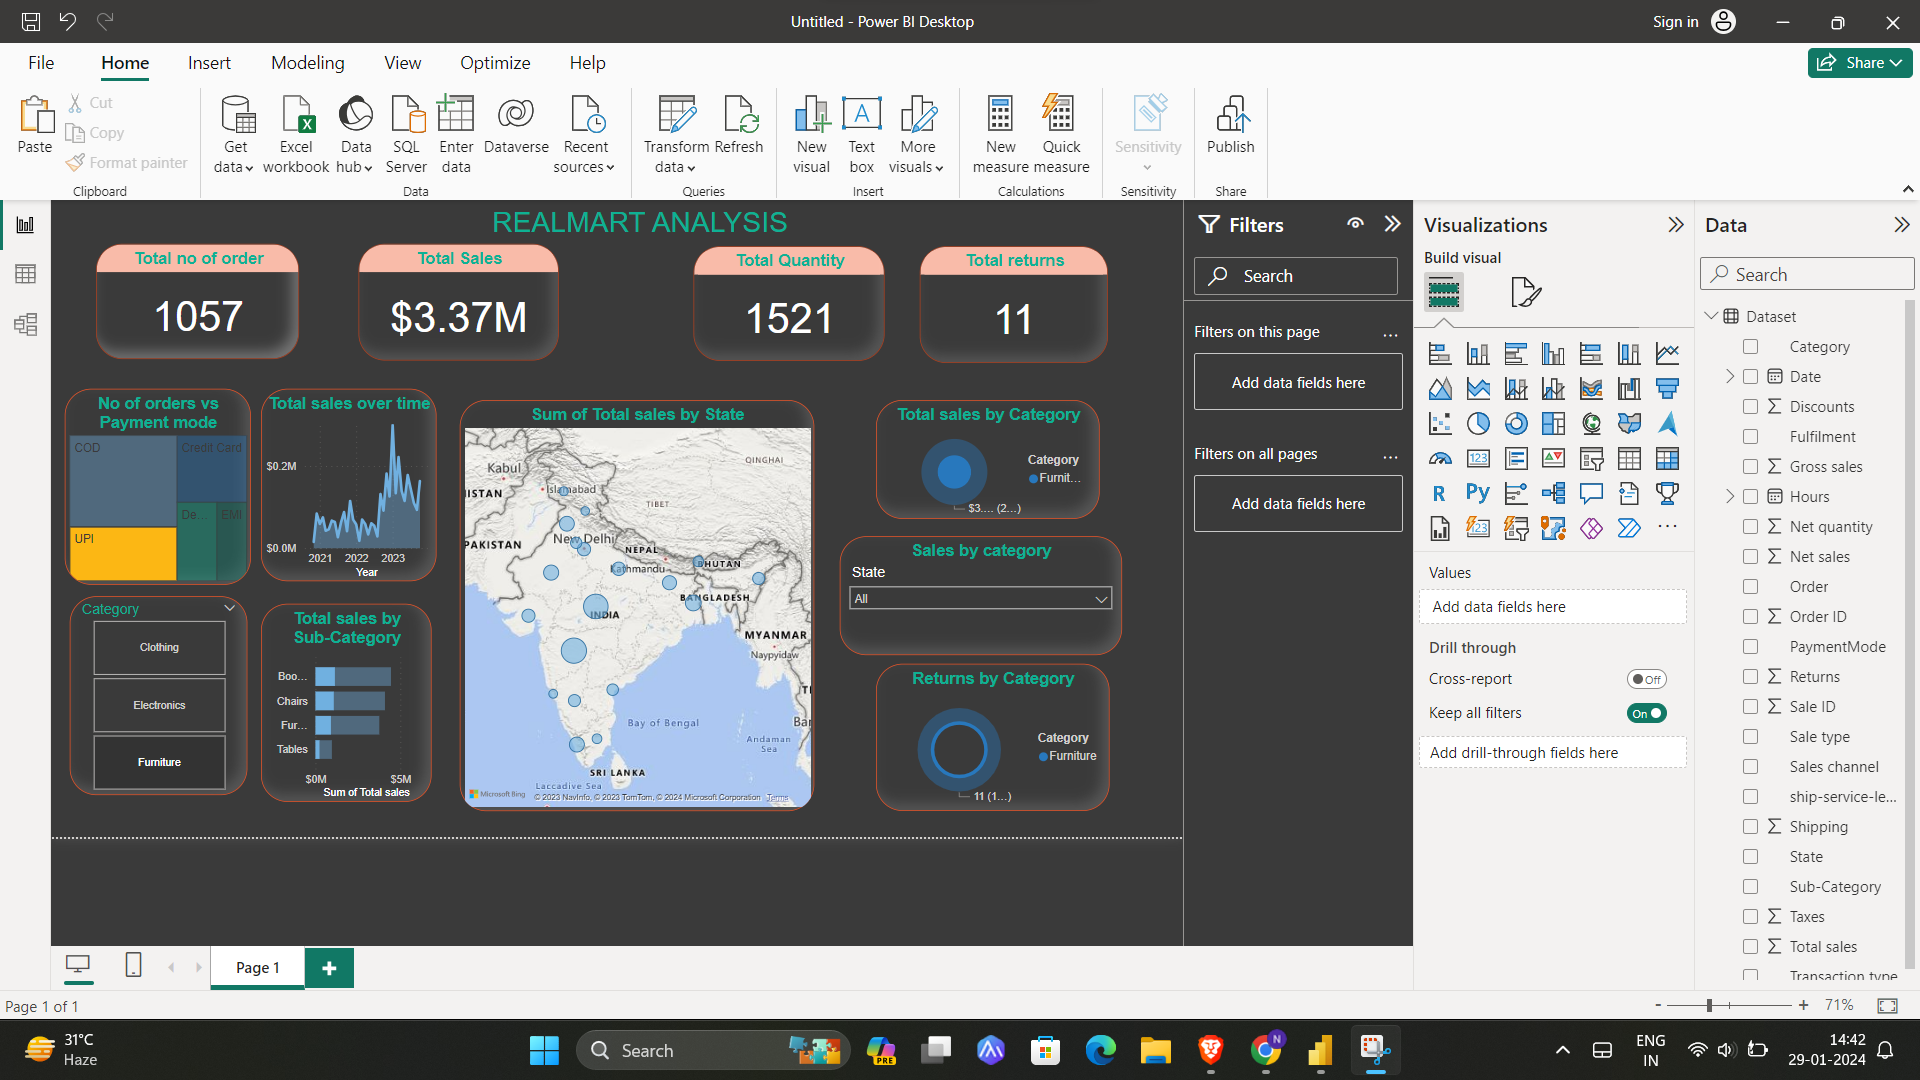

The page's visual inventory and layout, read from the dashboard file:
{"tool":"powerbi","page":{"name":"Page 1","canvas":[1280,720],"ordinal":0},"visuals":[{"type":"card","title":"Total no of order","fields":{"Values":["CountNonNull(Dataset.Order ID)"]},"box":[51.3,50.1,229.8,130.8],"z":0},{"type":"card","title":"Total Sales","fields":{"Values":["Sum(Dataset.Total sales)"]},"box":[347.2,50.1,226.1,132],"z":1000},{"type":"card","title":"Total Quantity","fields":{"Values":["Sum(Dataset.Net quantity)"]},"box":[726.1,52.6,216.4,129.6],"z":2000},{"type":"card","title":"Total returns","fields":{"Values":["Sum(Dataset.Returns)"]},"box":[982.8,52.6,212.7,132],"z":3000},{"type":"areaChart","title":"Total sales over time","fields":{"Category":["Dataset.Date.Variation.Date Hierarchy.Year","Dataset.Date.Variation.Date Hierarchy.Month"],"Y":["Sum(Dataset.Total sales)"]},"box":[237.1,213.9,198,217.6],"z":4000},{"type":"pieChart","title":"Total sales by Category","fields":{"Category":["Dataset.Category"],"Y":["Sum(Dataset.Total sales)"]},"box":[932.7,226.1,253,134.5],"z":5000},{"type":"clusteredBarChart","title":"Total sales by Sub-Category","fields":{"Category":["Dataset.Sub-Category"],"Y":["Sum(Dataset.Total sales)"]},"box":[237.1,456,193.1,223.7],"z":6000},{"type":"treemap","title":"No of orders vs Payment mode","fields":{"Group":["Dataset.PaymentMode"],"Values":["CountNonNull(Dataset.Order ID)"]},"box":[15.9,213.9,210.3,221.3],"z":7000},{"type":"map","fields":{"Category":["Dataset.State"],"Size":["Sum(Dataset.Total sales)"]},"box":[462.1,226.1,401,464.5],"z":8000},{"type":"textbox","box":[460.8,2.4,410.7,74.6],"z":9000},{"type":"slicer","fields":{"Values":["Dataset.Category"]},"box":[20.8,447.4,200.5,224.9],"z":10000},{"type":"slicer","title":"Sales by category","fields":{"Values":["Dataset.State"]},"box":[892.4,380.2,319,134.5],"z":11000},{"type":"donutChart","title":"Returns by Category","fields":{"Category":["Dataset.Category"],"Y":["Sum(Dataset.Returns)"]},"box":[932.7,524.4,264,166.2],"z":12000}]}

Visuals, with their boxes on the page's 1280x720 design canvas (x1, y1, x2, y2). These are canvas units, not pixel positions in the 1920x1080 screenshot, which may show the page scaled, cropped or inside an application window:
"Total no of order" card: (x1=51, y1=50, x2=281, y2=181)
"Total Sales" card: (x1=347, y1=50, x2=573, y2=182)
"Total Quantity" card: (x1=726, y1=53, x2=942, y2=182)
"Total returns" card: (x1=983, y1=53, x2=1196, y2=185)
"Total sales over time" areaChart: (x1=237, y1=214, x2=435, y2=432)
"Total sales by Category" pieChart: (x1=933, y1=226, x2=1186, y2=361)
"Total sales by Sub-Category" clusteredBarChart: (x1=237, y1=456, x2=430, y2=680)
"No of orders vs Payment mode" treemap: (x1=16, y1=214, x2=226, y2=435)
map - Dataset.State x Sum(Dataset.Total sales): (x1=462, y1=226, x2=863, y2=691)
textbox: (x1=461, y1=2, x2=872, y2=77)
slicer - Dataset.Category: (x1=21, y1=447, x2=221, y2=672)
"Sales by category" slicer: (x1=892, y1=380, x2=1211, y2=515)
"Returns by Category" donutChart: (x1=933, y1=524, x2=1197, y2=691)
